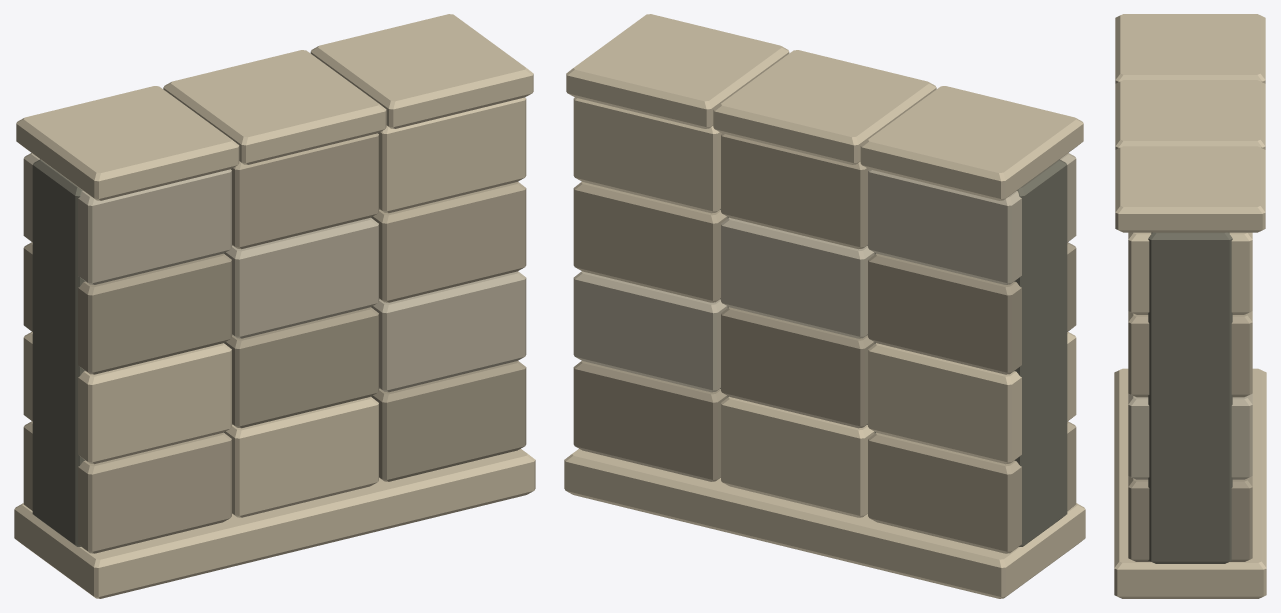
Rendered from Wall_Solid_2m.fbx.
3 renders of one model, left to right at view 1: azimuth 30°, elevation 25°; view 2: azimuth 150°, elevation 25°; view 3: azimuth 270°, elevation 25°, orthographic. The views are drawn at different scales.
Parts seen in each view (by area): view 1: Wall_Solid_2m; view 2: Wall_Solid_2m; view 3: Wall_Solid_2m.
Boxes of the visible parts, <box> form: Wall_Solid_2m: <box>14,14,535,598</box>; Wall_Solid_2m: <box>564,14,1085,598</box>; Wall_Solid_2m: <box>1114,14,1266,598</box>.
Bounding box in the file's own units: 2 × 1.84 × 0.65.
